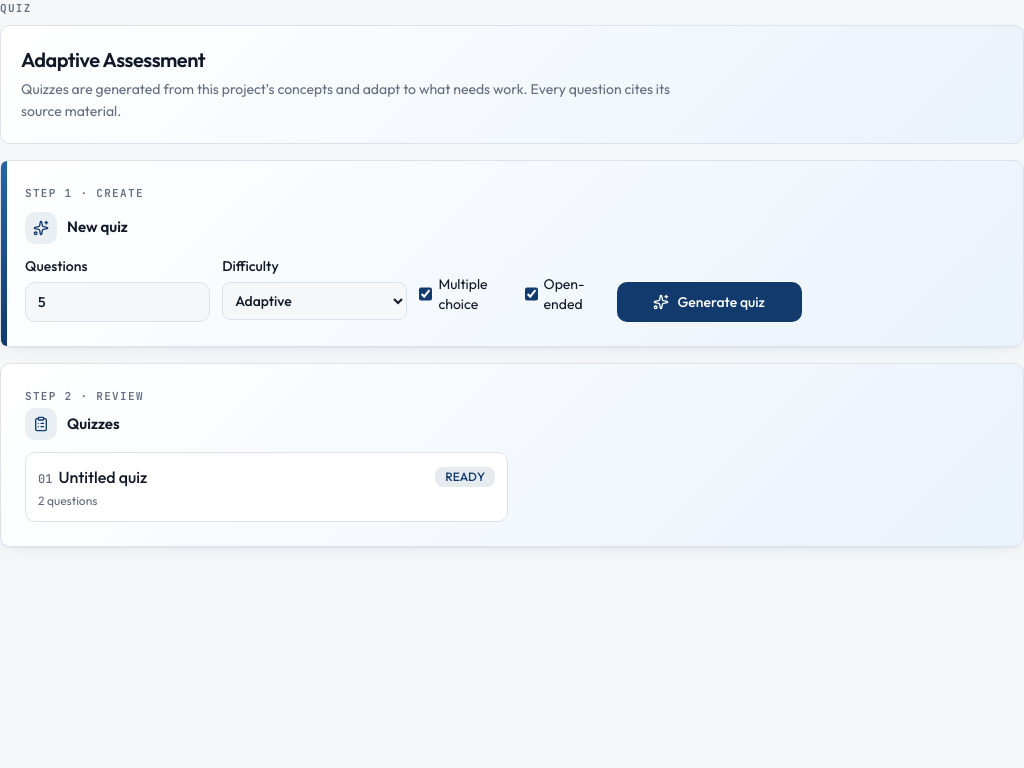
QuizSection › surfaces a generation failure and retry discovers the persisted quiz
Click the button "Generate quiz" at (709, 302), box left=617, top=282, right=802, bottom=322
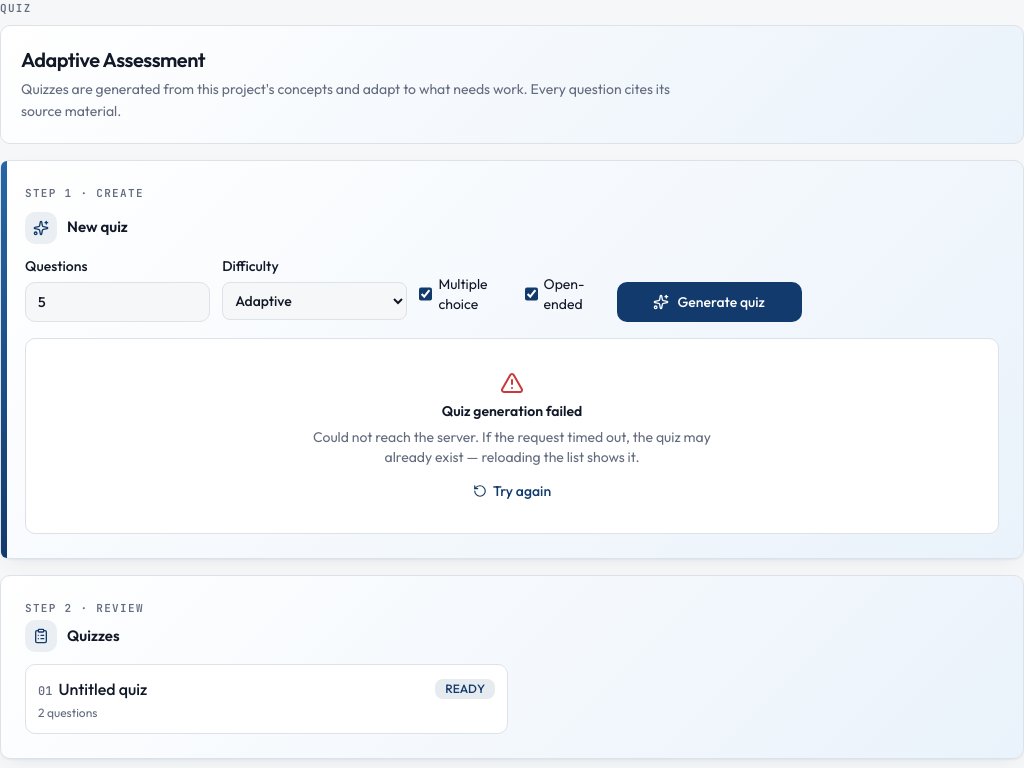
Expected: the text "Quiz generation failed" is shown, left=442, top=400, right=582, bottom=420
Expected: the text "Could not reach the server" is shown, left=313, top=428, right=711, bottom=466
Click the button "Try again" at (512, 490), box left=473, top=480, right=551, bottom=500
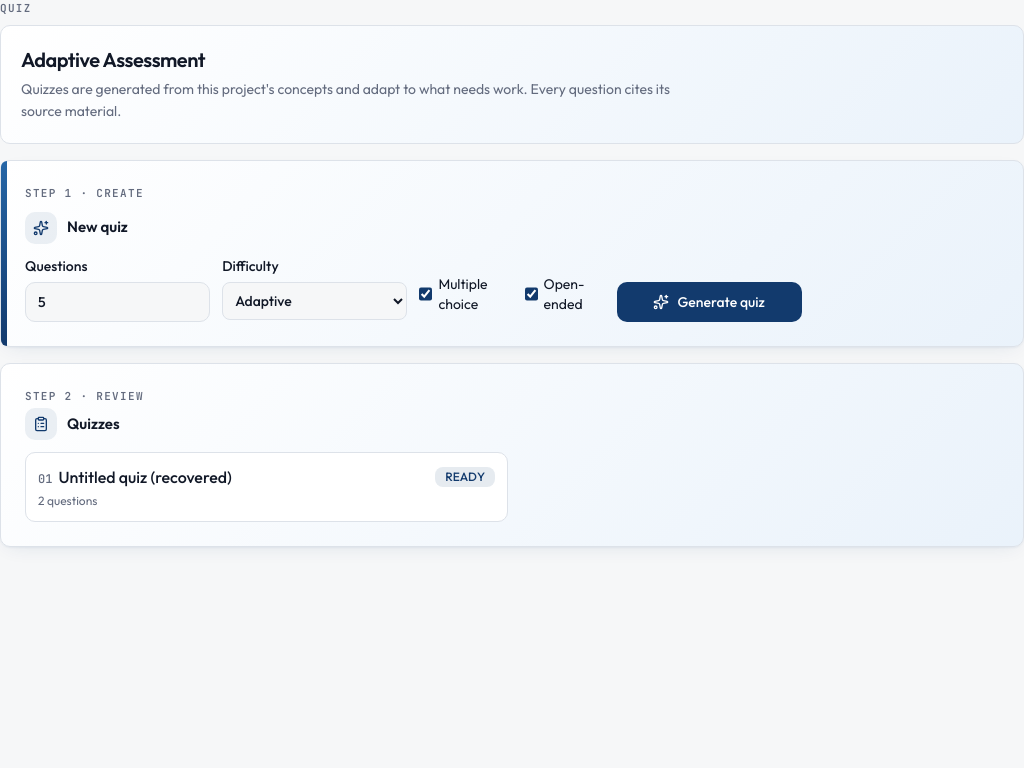
Expected: the button "01Untitled quiz (recovered)" is shown, left=38, top=465, right=232, bottom=489
Expected: the text "Quiz generation failed" is gone
